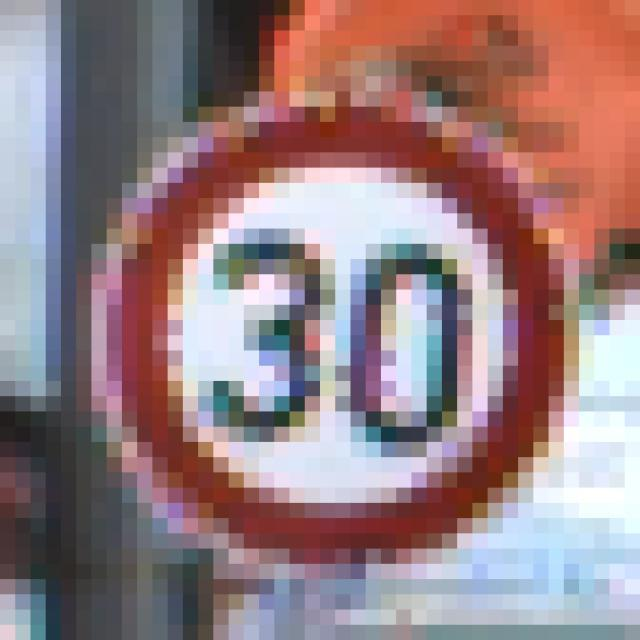Speed Limit -30-: (69, 69, 542, 556)
